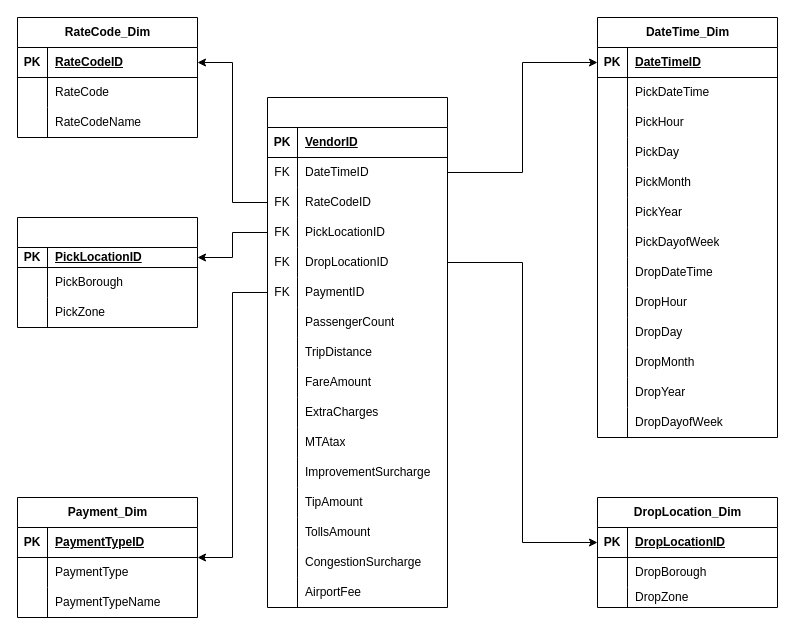
Image size: 795x635. Some labels were removed from this diagram. Each missing label, with the box of its shape:
PickUpLocation_Dim: (16, 216, 198, 328)
Ride_Fact_Table: (266, 96, 448, 608)
